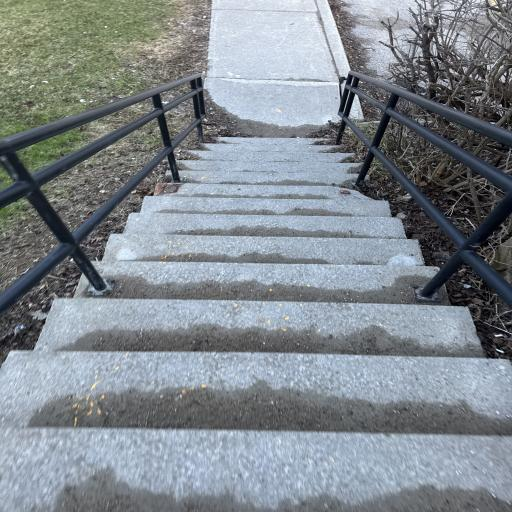Stairs: (0, 137, 512, 512)
